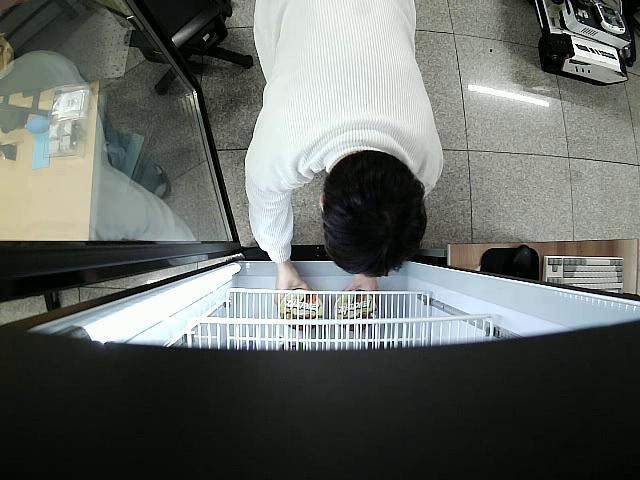03_chapagetti_L: (279, 288, 324, 331), (334, 294, 378, 331)
